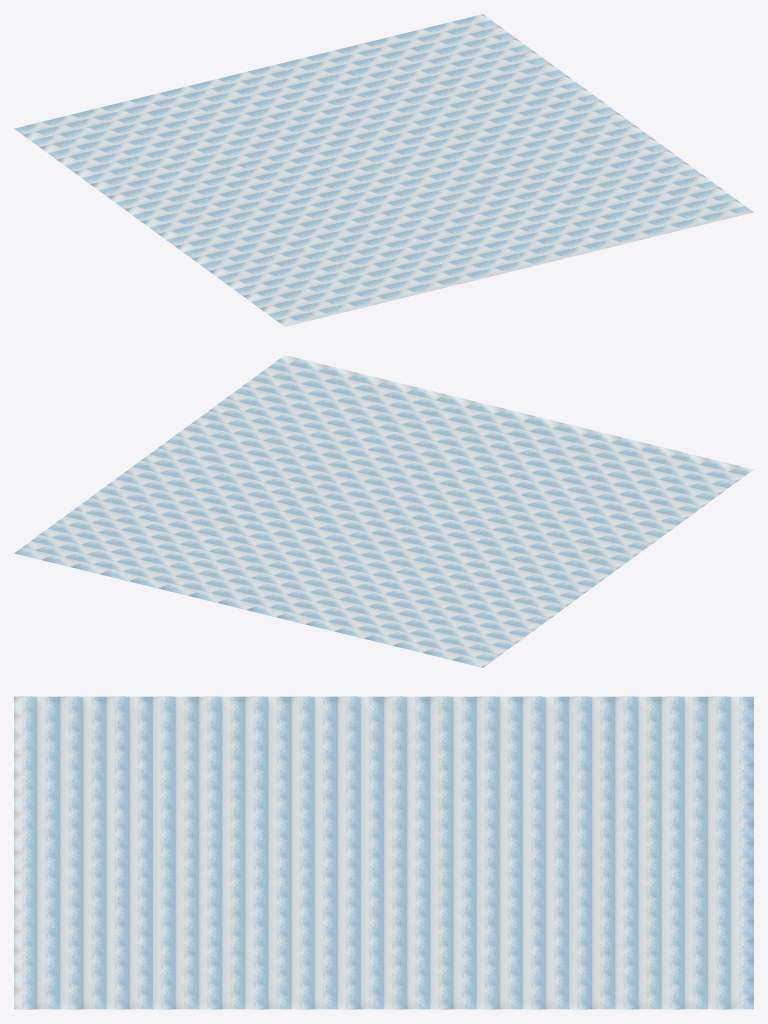
The model's file is Clouds.obj.
3 renders of one model, top to bottom at view 1: azimuth 30°, elevation 25°; view 2: azimuth 150°, elevation 25°; view 3: azimuth 270°, elevation 25°, orthographic. The views are drawn at different scales.
Parts seen in each view (by area): view 1: Clouds; view 2: Clouds; view 3: Clouds.
Boxes of the visible parts, x1,y1,x2,y2 form: Clouds: [14, 14, 753, 326]; Clouds: [14, 355, 753, 667]; Clouds: [14, 696, 753, 1009].
Bounding box in the file's own units: 1024 × 16 × 1024.
